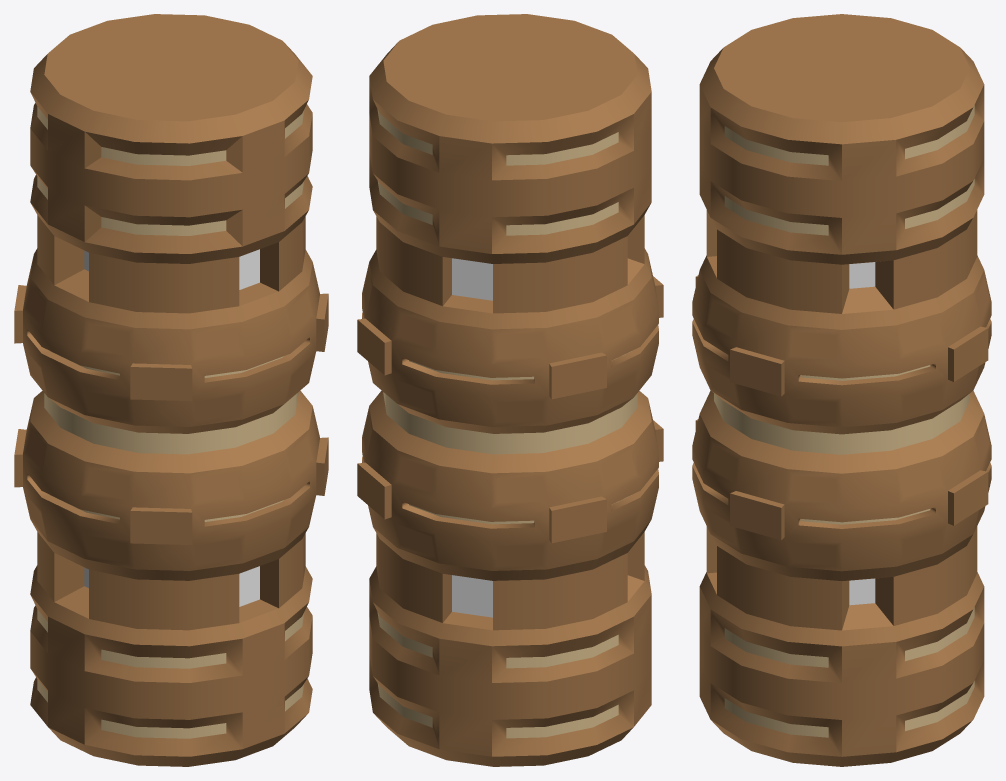
File: Rotating_Pillar.fbx
The picture shows the model from 3 angles, left to right: view 1: azimuth 30°, elevation 25°; view 2: azimuth 150°, elevation 25°; view 3: azimuth 270°, elevation 25°; orthographic projection.
Visible parts, largest first — view 1: Rotating_Pillar; view 2: Rotating_Pillar; view 3: Rotating_Pillar.
Boxes of the visible parts, left/top/right/bottom form: Rotating_Pillar: left=14, top=14, right=328, bottom=766; Rotating_Pillar: left=357, top=14, right=663, bottom=766; Rotating_Pillar: left=692, top=14, right=991, bottom=766.
Bounding box in the file's own units: 421 × 1000 × 421.
